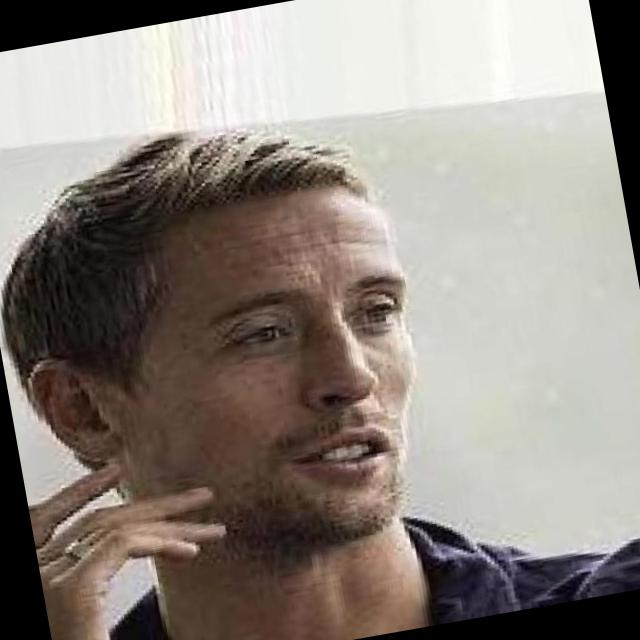bareface: (157, 154, 446, 548)
